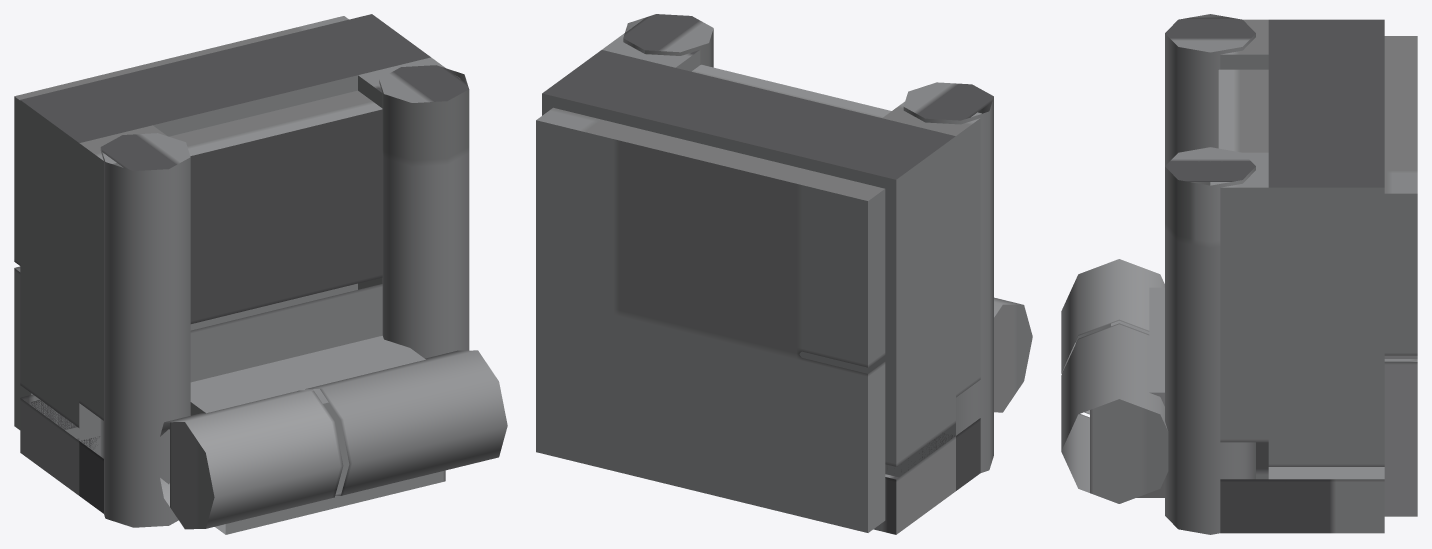
The picture shows the model from 3 angles, left to right: view 1: azimuth 30°, elevation 25°; view 2: azimuth 150°, elevation 25°; view 3: azimuth 270°, elevation 25°; orthographic projection. The views are drawn at different scales.
Bounding box in the file's own units: 0.98 × 0.93 × 0.86.
